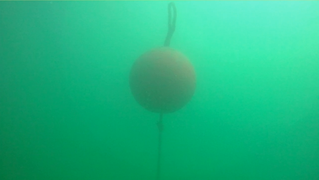buoy: (128, 46, 196, 113)
